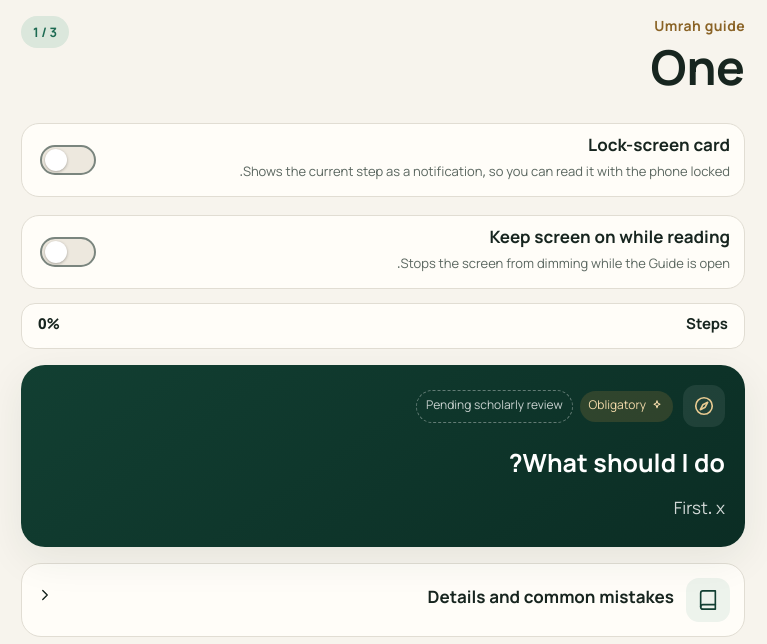
Lock-screen card in the Guide › says so when notifications are unsupported
Click the switch in the row of "Lock-screen card": (68,160) [36,136,100,184]
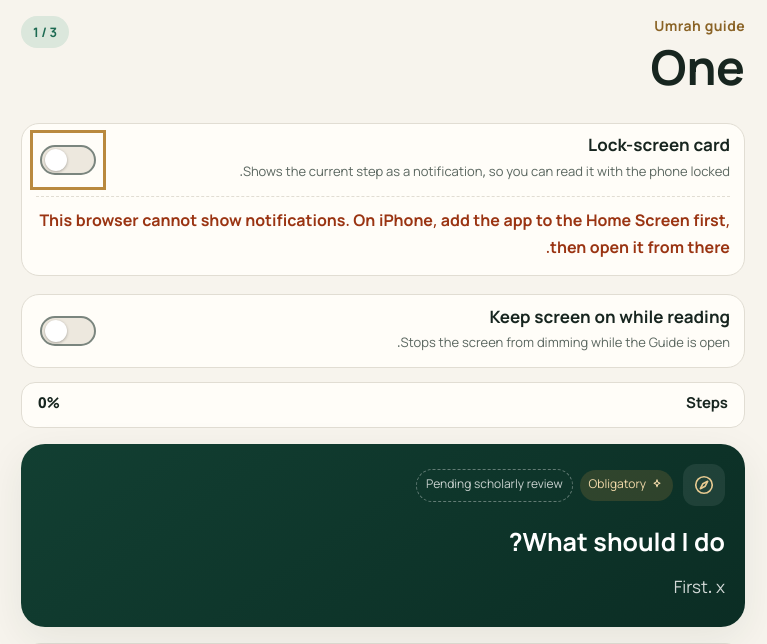
Expected: the message shows "cannot show notifications", [39,209,730,263]
